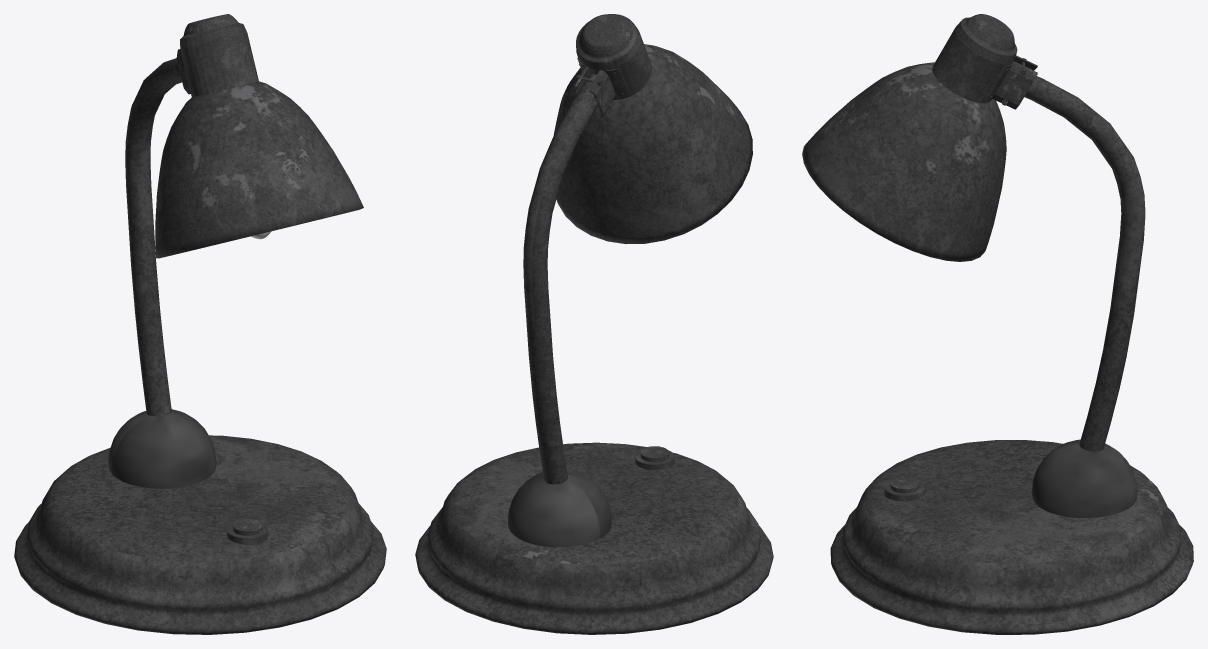
Rendered from DeskLamp.fbx.
3 renders of one model, left to right at view 1: azimuth 30°, elevation 25°; view 2: azimuth 150°, elevation 25°; view 3: azimuth 270°, elevation 25°, orthographic. The views are drawn at different scales.
Parts seen in each view (by area): view 1: Base, LightBulbCylinder, LightBulbPlug, PowerButton; view 2: Base, LightBulbCylinder, LightBulbPlug, PowerButton; view 3: Base, LightBulbCylinder, LightBulbPlug, PowerButton.
Boxes of the visible parts, x1,y1,x2,y2 form: Base: [14, 58, 386, 634]; LightBulbCylinder: [155, 81, 363, 258]; LightBulbPlug: [176, 14, 258, 97]; PowerButton: [227, 519, 268, 544]; Base: [415, 74, 773, 634]; LightBulbCylinder: [554, 44, 752, 243]; LightBulbPlug: [573, 14, 651, 117]; PowerButton: [635, 446, 674, 469]; Base: [830, 76, 1193, 634]; LightBulbCylinder: [802, 62, 1006, 261]; LightBulbPlug: [932, 14, 1037, 109]; PowerButton: [884, 477, 925, 501].
Bounding box in the file's own units: 206 × 338 × 222.
